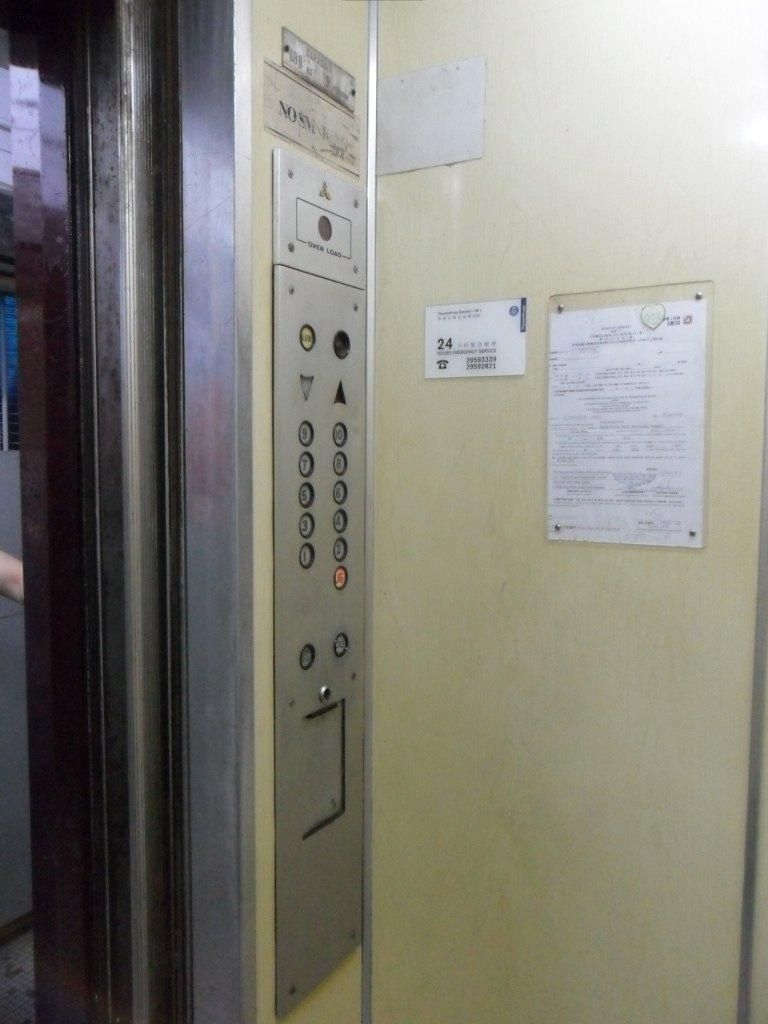1: (297, 542, 317, 569)
10: (330, 421, 350, 448)
2: (332, 536, 348, 561)
3: (297, 512, 316, 540)
4: (331, 508, 349, 535)
5: (296, 481, 316, 509)
6: (331, 479, 349, 506)
7: (297, 450, 316, 479)
8: (330, 449, 350, 477)
9: (296, 417, 315, 449)
UG: (332, 565, 348, 591)
blur: (296, 642, 318, 671), (331, 631, 350, 659), (318, 684, 335, 705)
empty: (330, 327, 354, 362)
text: (296, 322, 318, 355)
